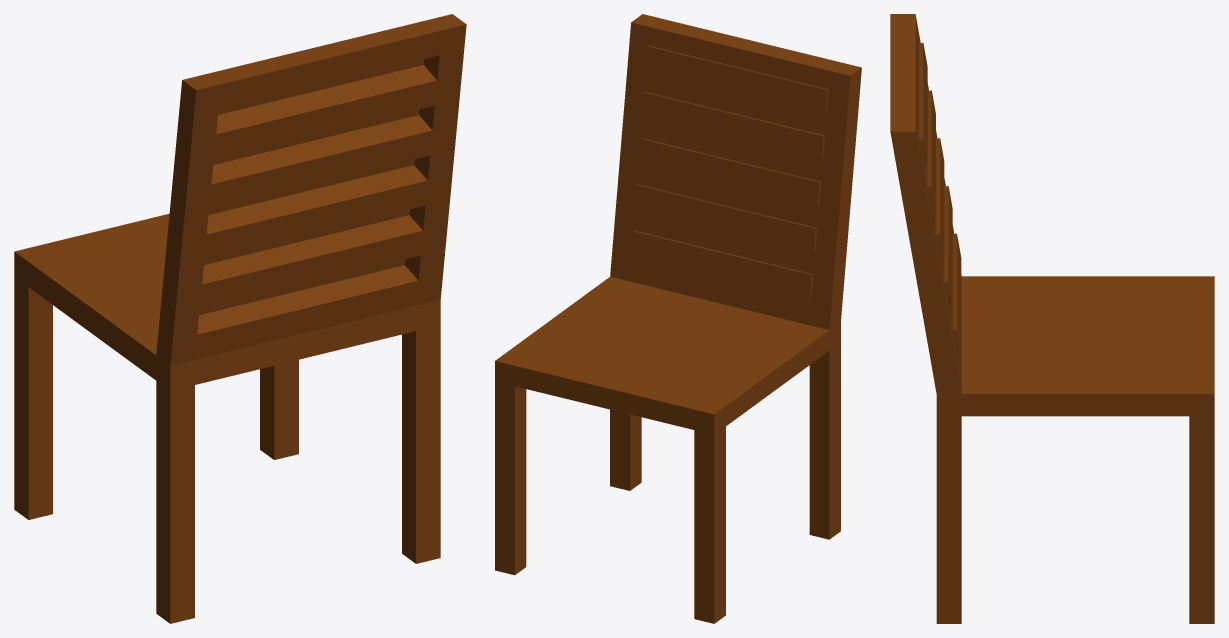
The model's file is chair.glb.
The picture shows the model from 3 angles, left to right: view 1: azimuth 30°, elevation 25°; view 2: azimuth 150°, elevation 25°; view 3: azimuth 270°, elevation 25°; orthographic projection. The views are drawn at different scales.
Visible parts, largest first — view 1: Cube; view 2: Cube; view 3: Cube.
Boxes of the visible parts, box(x1,y1,x2,y2) form: Cube: box(14, 14, 466, 623); Cube: box(495, 14, 861, 623); Cube: box(890, 14, 1214, 623).
Bounding box in the file's own units: 2 × 3.91 × 2.33.
